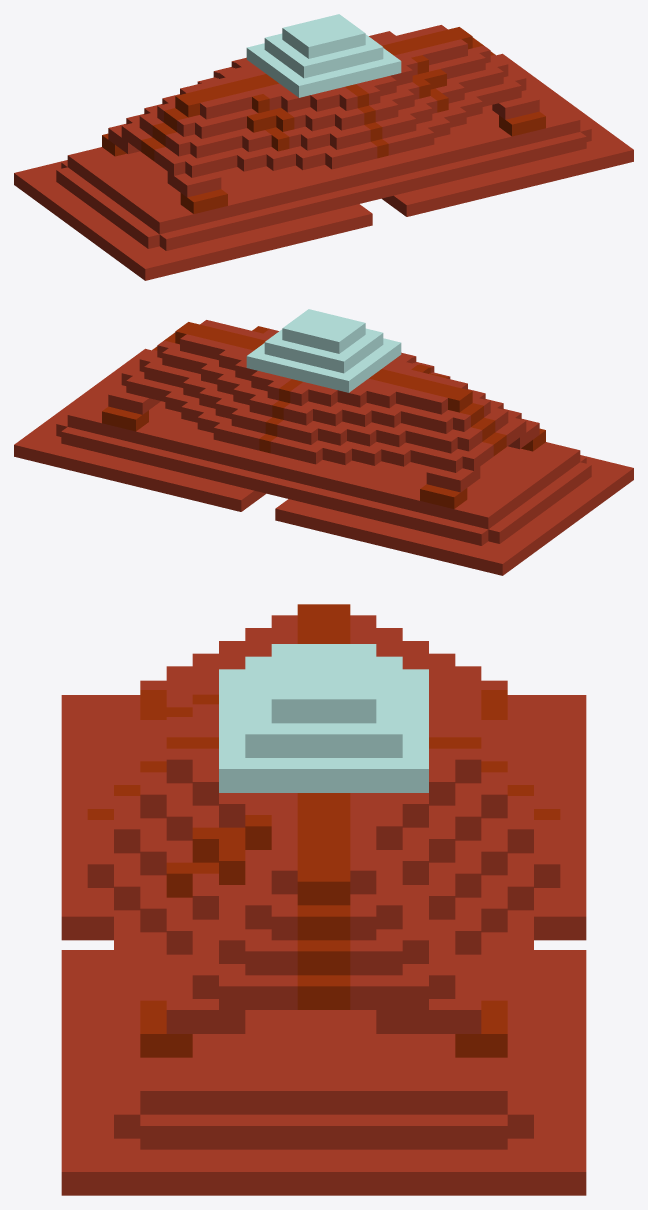
Rendered from elec2_hid.fbx.
The picture shows the model from 3 angles, top to bottom: view 1: azimuth 30°, elevation 25°; view 2: azimuth 150°, elevation 25°; view 3: azimuth 270°, elevation 25°; orthographic projection. The views are drawn at different scales.
Parts seen in each view (by area): view 1: elec2_hid; view 2: elec2_hid; view 3: elec2_hid.
Boxes of the visible parts, x1,y1,x2,y2 form: elec2_hid: (14,14,633,280); elec2_hid: (14,309,633,575); elec2_hid: (61,604,586,1195).
Bounding box in the file's own units: 430 × 120 × 200.
